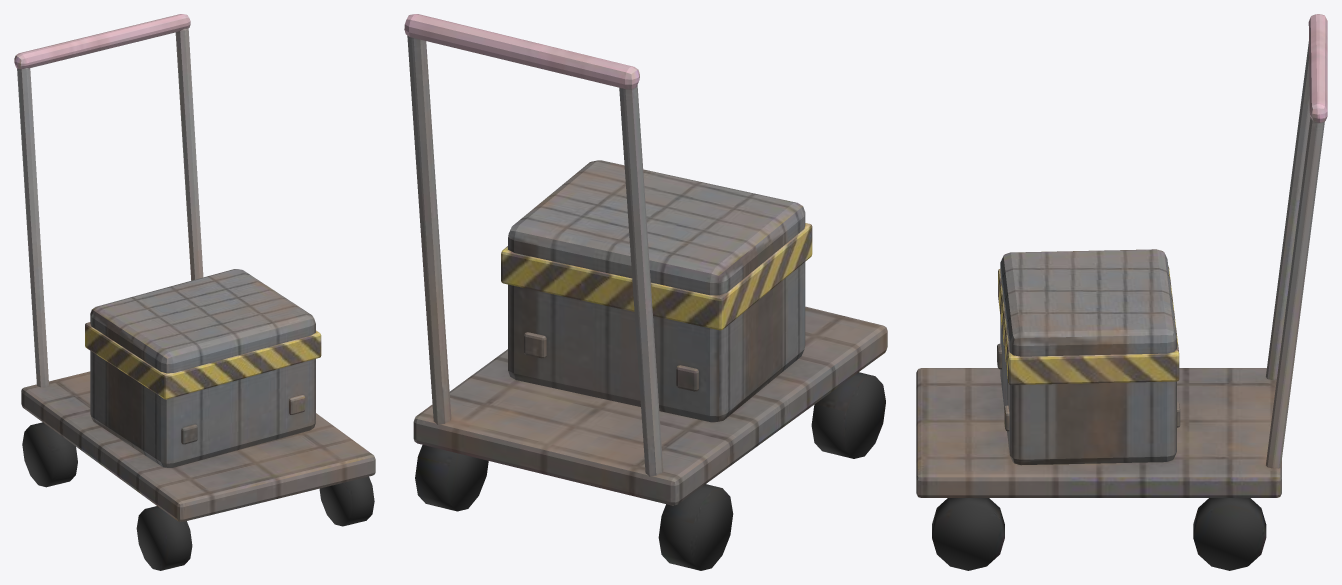
File: wheelbarrow.glb
3 renders of one model, left to right at view 1: azimuth 30°, elevation 25°; view 2: azimuth 150°, elevation 25°; view 3: azimuth 270°, elevation 25°, orthographic. The views are drawn at different scales.
Parts seen in each view (by area): view 1: wheelbarrow; view 2: wheelbarrow; view 3: wheelbarrow.
Part boxes in pixels (bbox=[...]): wheelbarrow: bbox=[14, 14, 375, 570]; wheelbarrow: bbox=[404, 14, 887, 570]; wheelbarrow: bbox=[916, 14, 1327, 570].
Bounding box in the file's own units: 0.52 × 0.9598 × 0.7876.
1 material, 1 textured.
